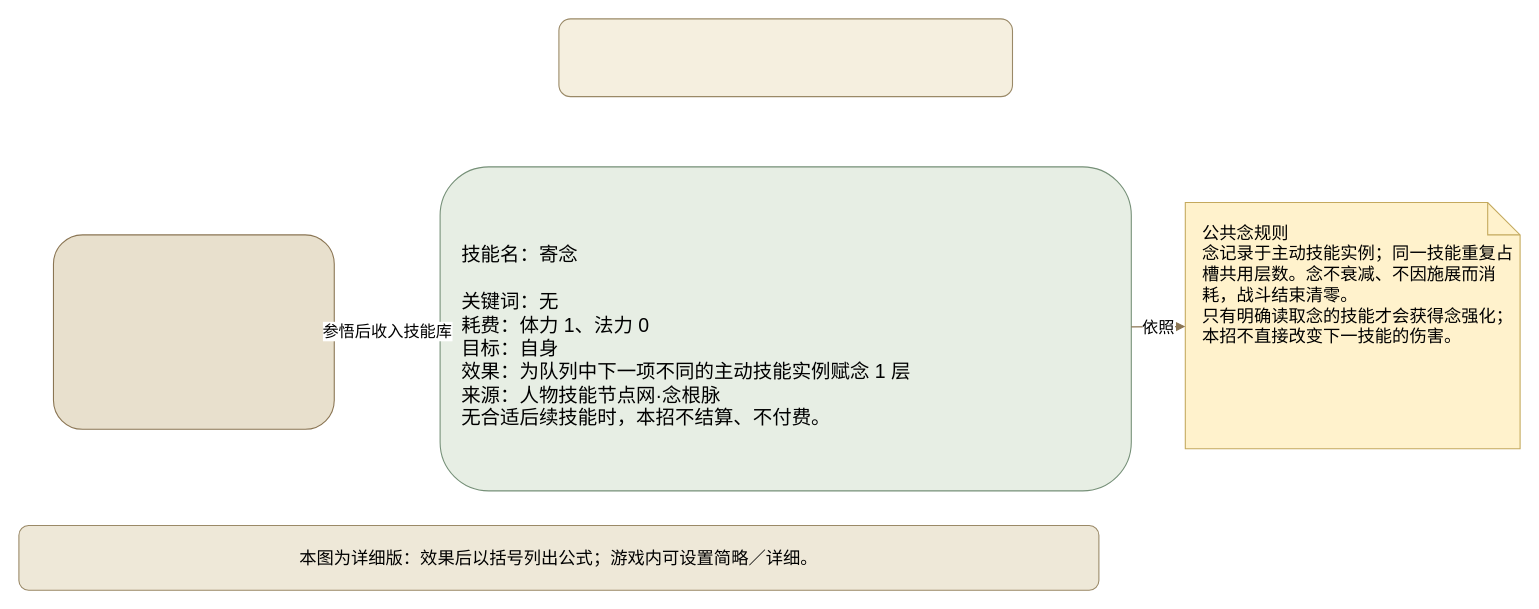
Some shapes in this 1539 by 609 pixel diagram are drawn without their labels. The centre of each missing label's shape, as x and y in pixels:
人物技能节点 · 念根脉: the point at 785,57
本源枢纽 念根脉 神魂 ≥ 8 术法造诣 ≥ 8: the point at 193,331
